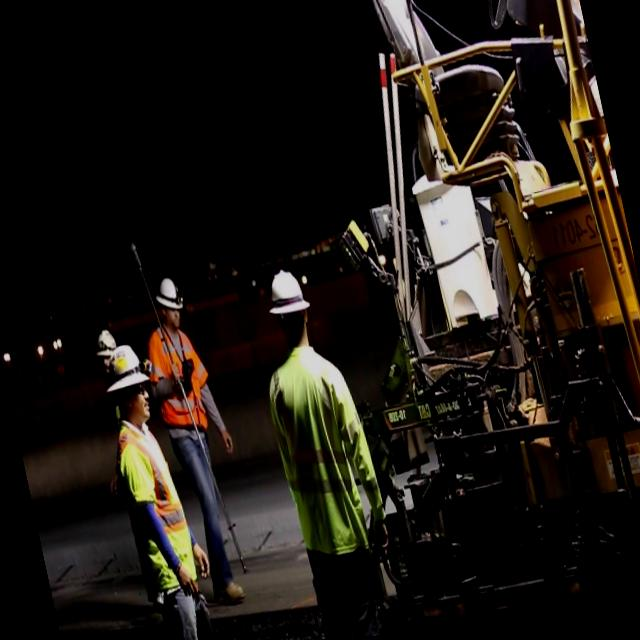helmet: (94, 338, 155, 406), (258, 261, 314, 327), (150, 266, 190, 314)
vest: (257, 333, 383, 560), (109, 415, 204, 602), (144, 322, 220, 433)
